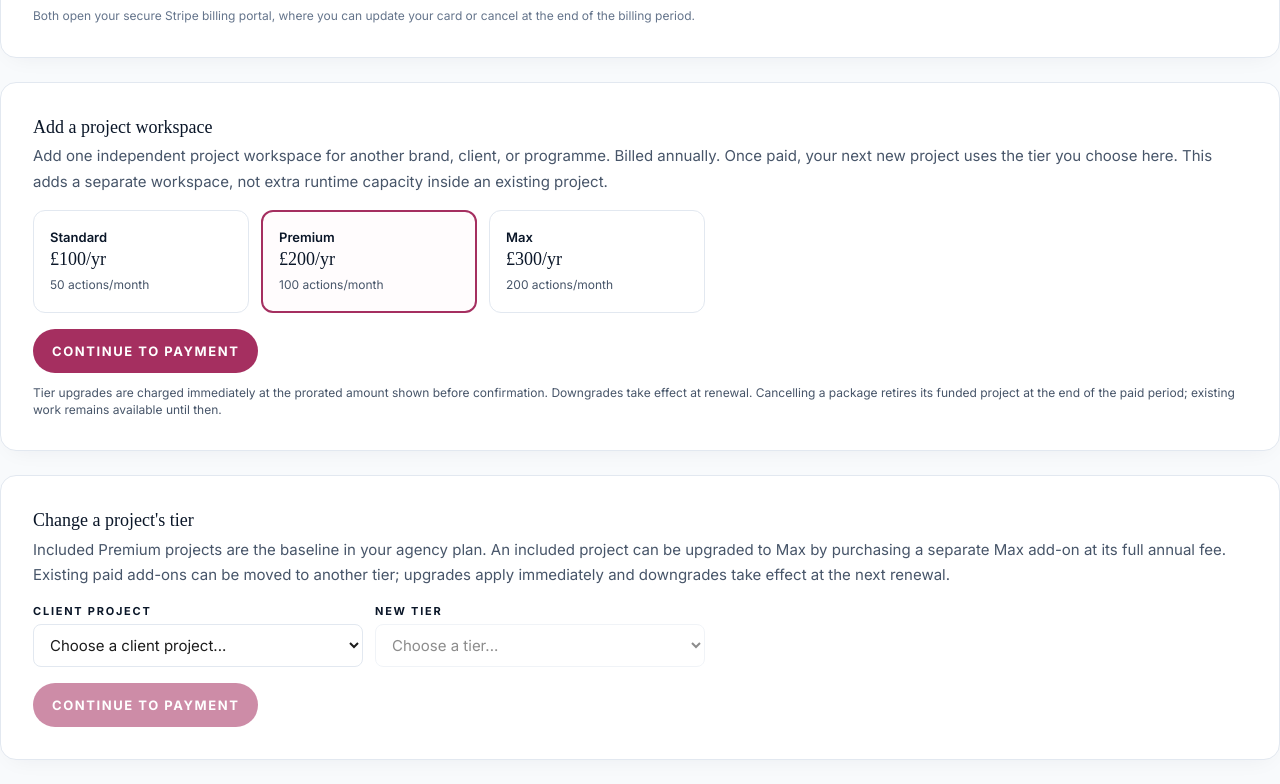
Scenario: agency project tier controls › schedules a paid add-on downgrade without requesting a charge preview
(page scrolled)
Select "Paid client project - Max" in the dropdown labelled "Client project" at (198, 646), box x1=33 y1=624 x2=363 y2=667
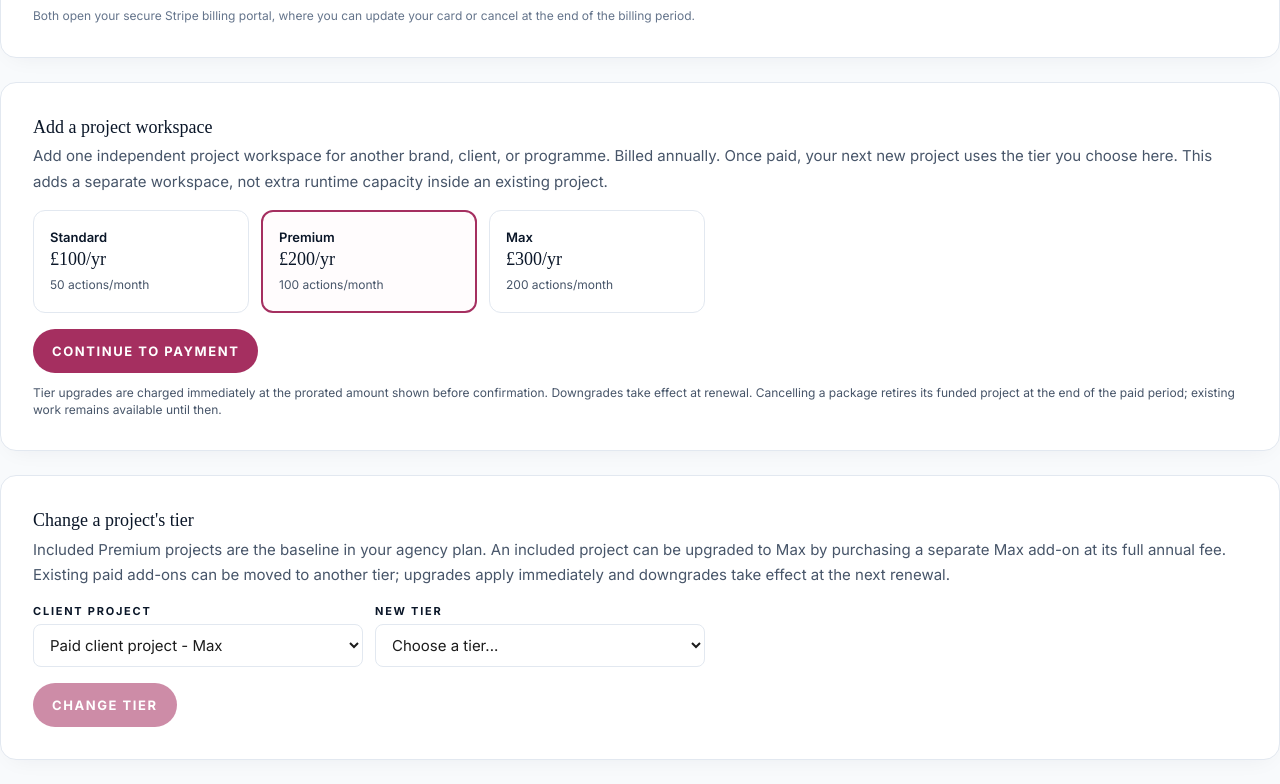
Select "Standard - £100/yr, 50 actions/month" in the dropdown labelled "New tier" at (540, 646), box x1=375 y1=624 x2=705 y2=667
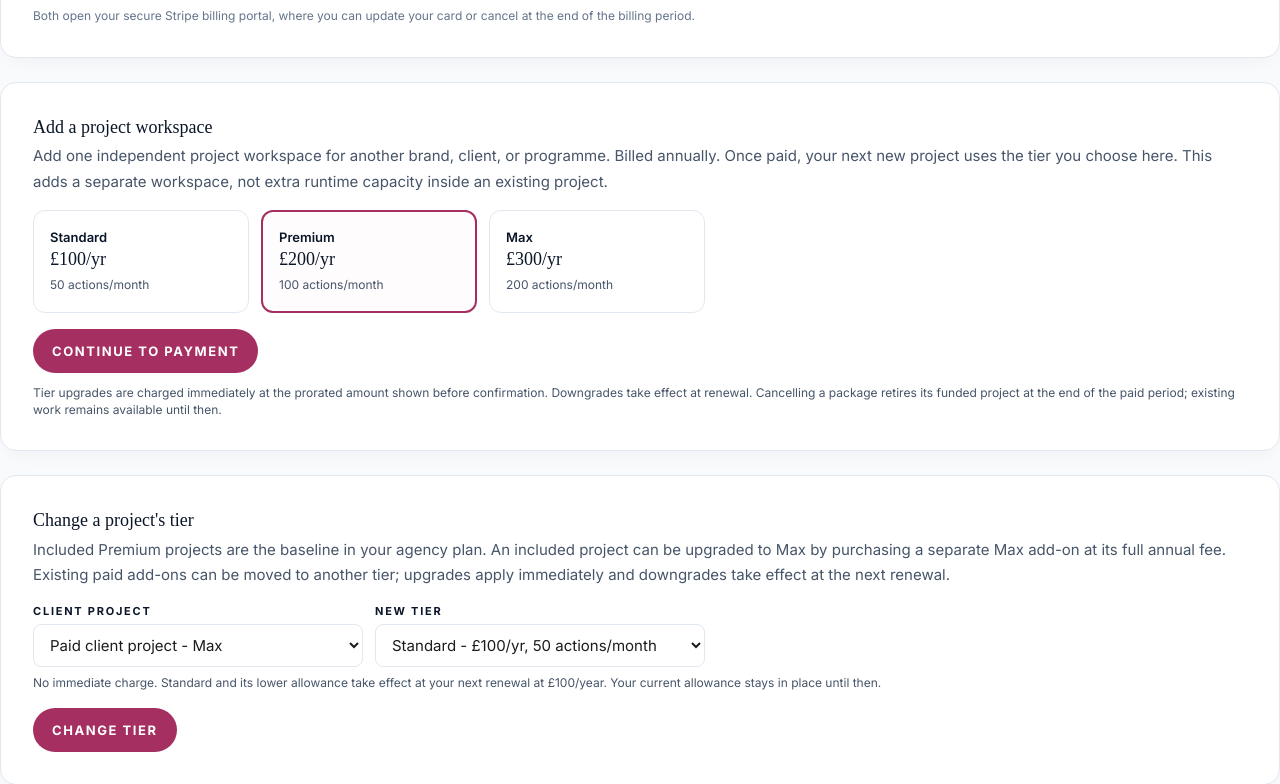
Now the element with test id "change-tier-card" shows "No immediate charge.", box x1=33 y1=675 x2=161 y2=690
Now the element with test id "change-tier-card" shows "Standard and its lower allowance take effect at your next renewal at £100/year.", box x1=0 y1=476 x2=1279 y2=783
Click the button "Change tier" at (105, 730), box x1=33 y1=708 x2=177 y2=752
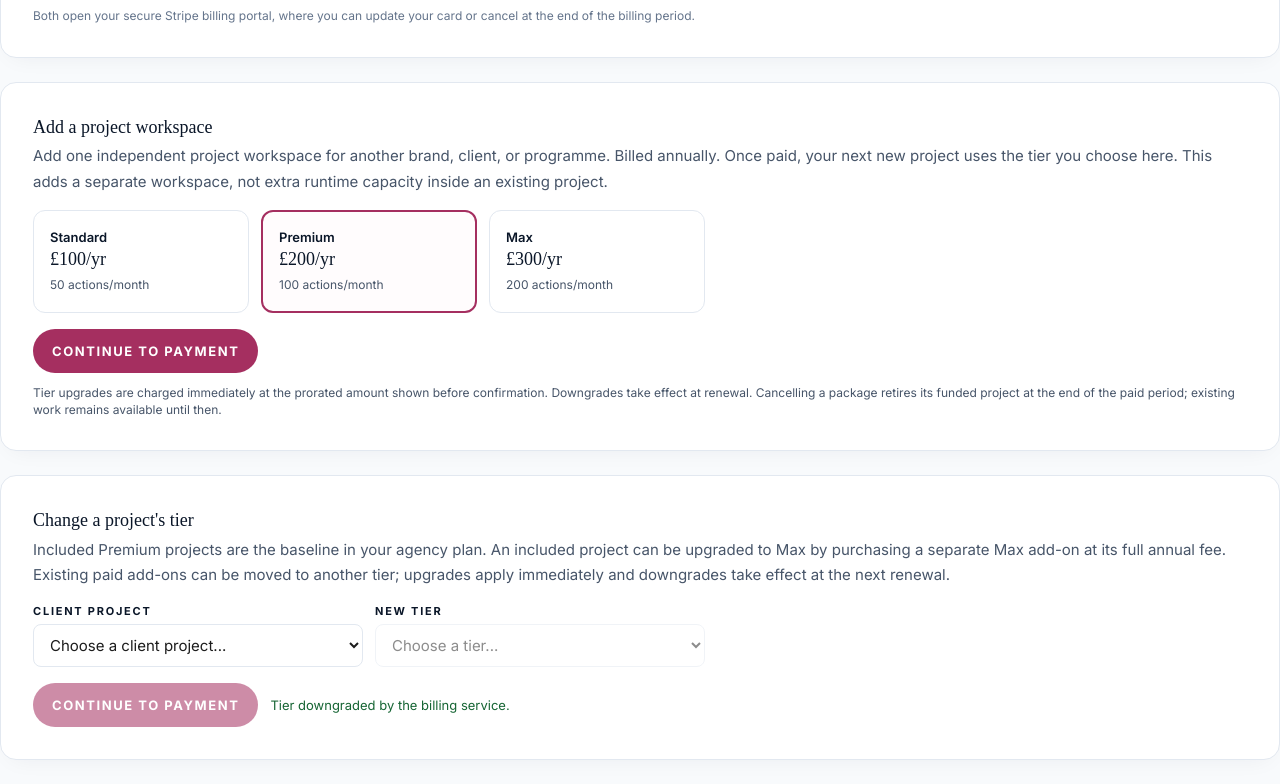
Now the text "Tier downgraded by the billing service." is shown, box x1=270 y1=695 x2=510 y2=715
